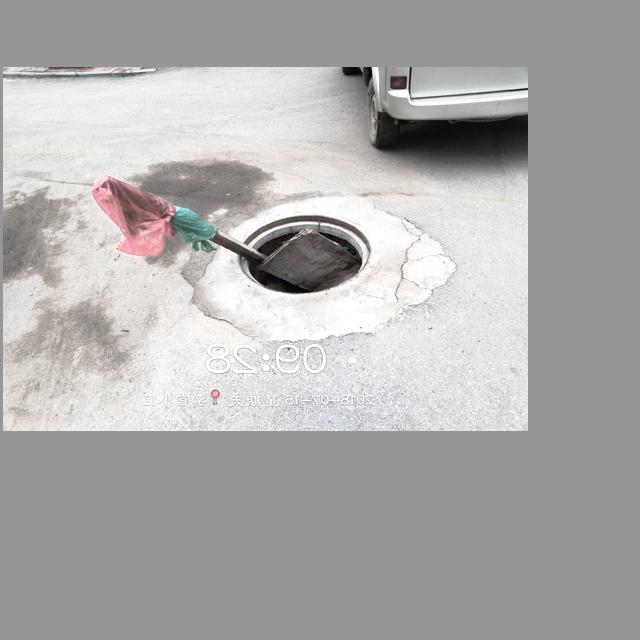lose: (225, 205, 395, 304)
